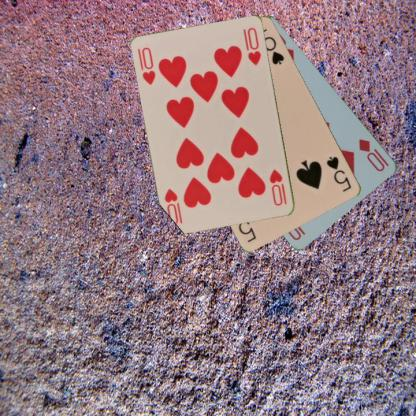10d: (356, 136, 390, 173)
10h: (267, 166, 288, 208), (139, 44, 157, 86)
5s: (324, 154, 353, 194)
